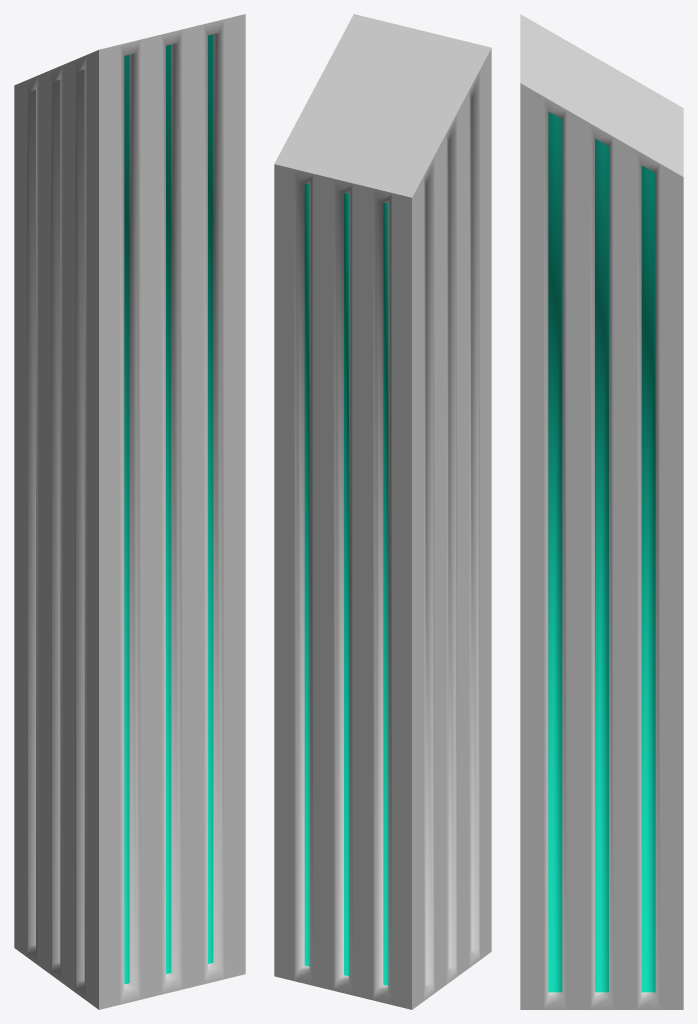
The model's file is SM_Building_Sup_1.fbx.
3 renders of one model, left to right at view 1: azimuth 30°, elevation 25°; view 2: azimuth 150°, elevation 25°; view 3: azimuth 270°, elevation 25°, orthographic. The views are drawn at different scales.
Parts seen in each view (by area): view 1: building_08.011; view 2: building_08.011; view 3: building_08.011.
Part boxes in pixels (bbox=[...]): building_08.011: bbox=[14, 14, 245, 1009]; building_08.011: bbox=[274, 14, 491, 1009]; building_08.011: bbox=[520, 14, 683, 1009].
Size of the model in its own units: 8 by 50.09 by 8.
